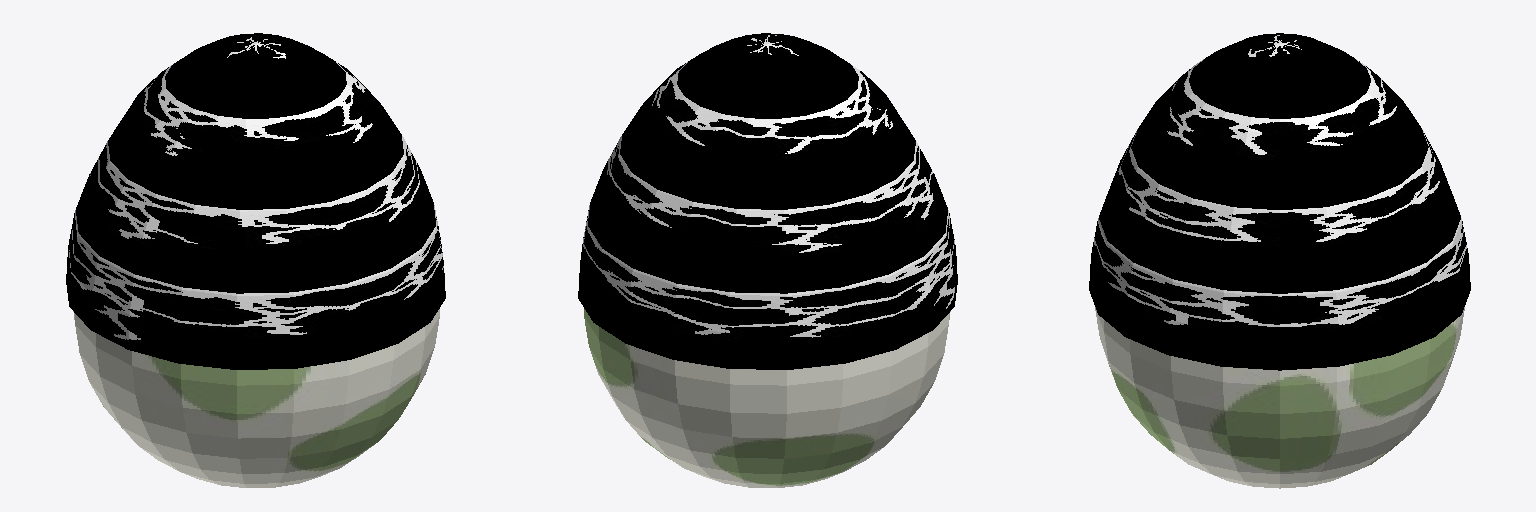
3 views of the same model, side by side, from view 1: azimuth 30°, elevation 25°; view 2: azimuth 150°, elevation 25°; view 3: azimuth 270°, elevation 25° (orthographic).
Parts seen in each view (by area): view 1: Object_pm0000_00_eggcrack01.jpg, Object_pm0000_00_egg.jpg; view 2: Object_pm0000_00_eggcrack01.jpg, Object_pm0000_00_egg.jpg; view 3: Object_pm0000_00_eggcrack01.jpg, Object_pm0000_00_egg.jpg.
Boxes of the visible parts, x1,y1,x2,y2 form: Object_pm0000_00_eggcrack01.jpg: [66, 33, 445, 369]; Object_pm0000_00_egg.jpg: [73, 309, 439, 487]; Object_pm0000_00_eggcrack01.jpg: [578, 33, 957, 369]; Object_pm0000_00_egg.jpg: [584, 309, 950, 487]; Object_pm0000_00_eggcrack01.jpg: [1089, 33, 1470, 370]; Object_pm0000_00_egg.jpg: [1095, 307, 1464, 488].
Size of the model in its own units: 2.04 by 2.5 by 2.04.
3 materials, 2 textured.